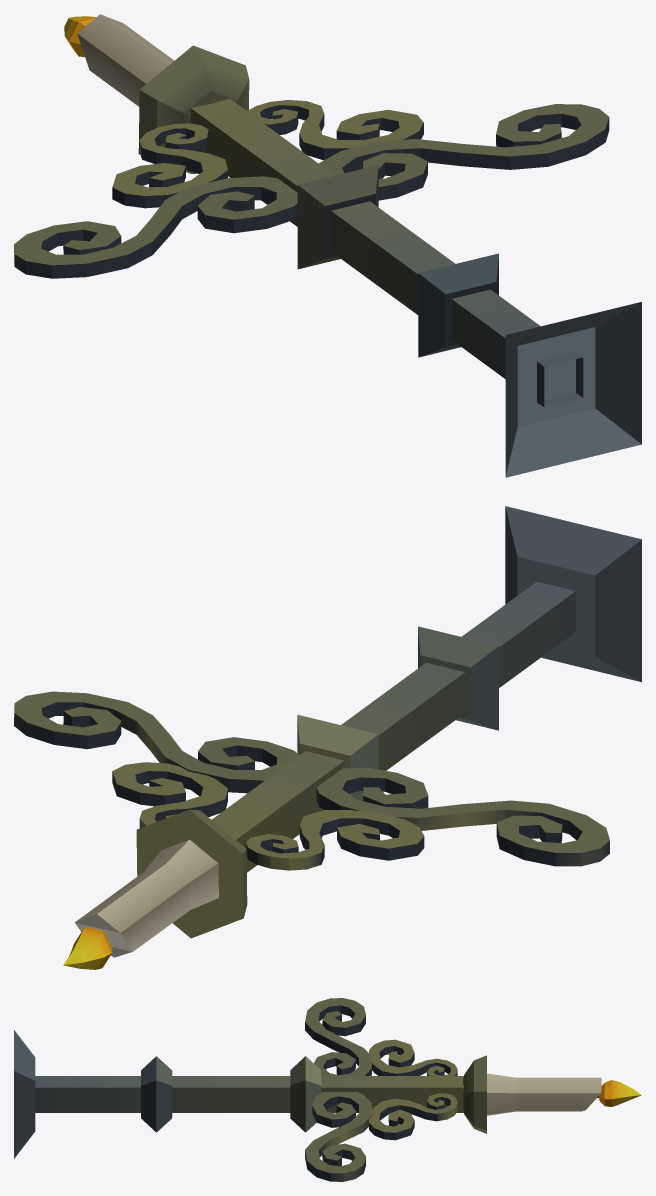
The model's file is candlelabra.fbx.
The picture shows the model from 3 angles, top to bottom: view 1: azimuth 30°, elevation 25°; view 2: azimuth 150°, elevation 25°; view 3: azimuth 270°, elevation 25°; orthographic projection. The views are drawn at different scales.
Parts seen in each view (by area): view 1: candlelabra, candleDish, candle; view 2: candlelabra, candle, candleDish, candleFlame; view 3: candlelabra, candle, candleDish, candleFlame.
Boxes of the visible parts, left/top/right/bottom form: candlelabra: left=14, top=98, right=641, bottom=477; candleDish: left=138, top=45, right=249, bottom=173; candle: left=77, top=14, right=174, bottom=106; candlelabra: left=14, top=506, right=641, bottom=872; candle: left=75, top=839, right=218, bottom=957; candleDish: left=136, top=809, right=247, bottom=938; candleFlame: left=63, top=927, right=112, bottom=969; candlelabra: left=14, top=998, right=463, bottom=1181; candle: left=487, top=1073, right=601, bottom=1115; candleDish: left=463, top=1055, right=486, bottom=1133; candleFlame: left=598, top=1080, right=641, bottom=1106.
Bounding box in the file's own units: 132 × 30.79 × 198.
